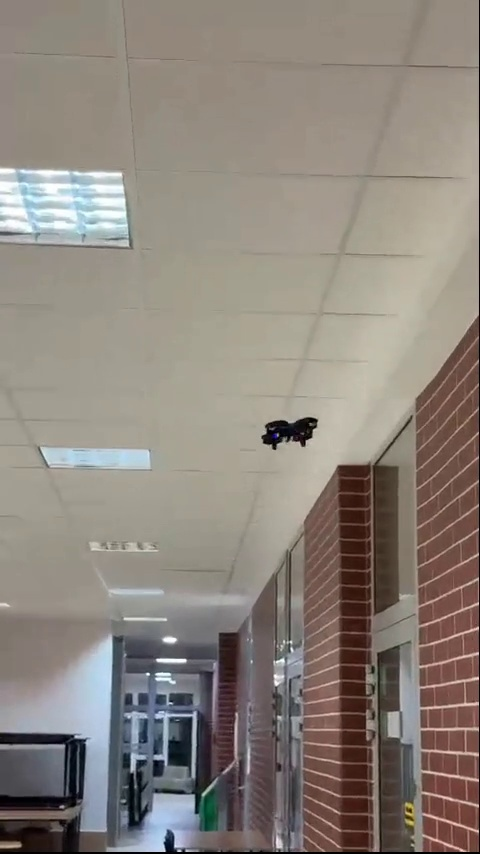drone: (266, 415, 318, 448)
